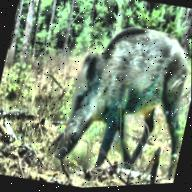boar: (46, 10, 192, 186)
